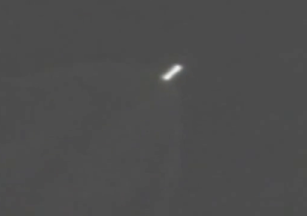Target: (162, 66, 181, 80)
